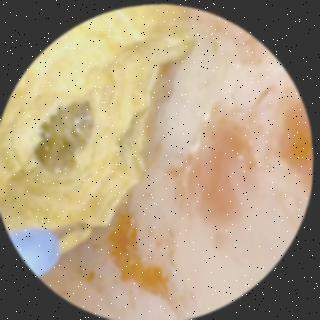fiber: (12, 228, 61, 275)
stone: (0, 7, 195, 248)
tissue: (51, 15, 311, 317)
